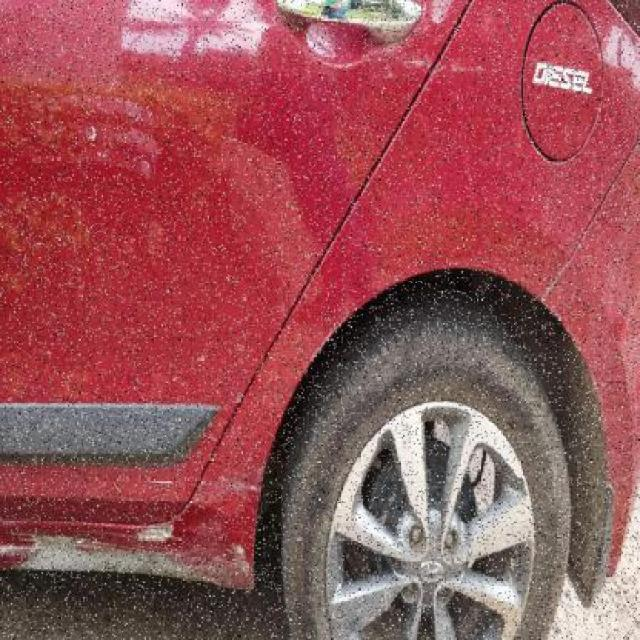RunningBoard-Dent: (0, 508, 281, 604)
